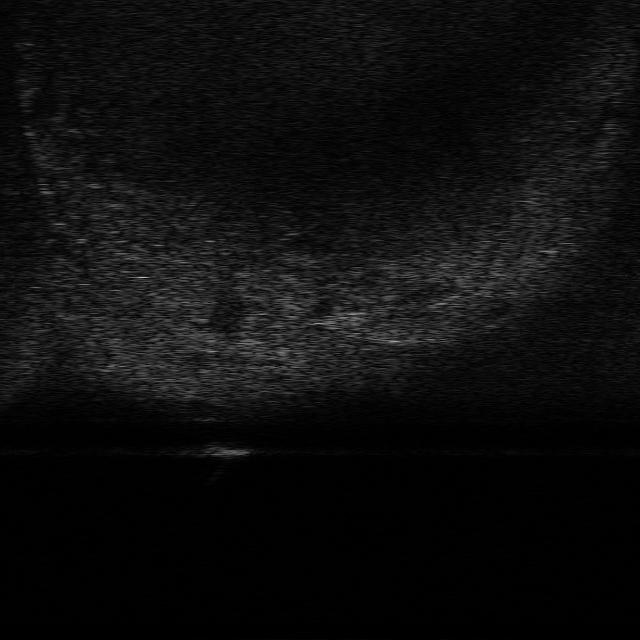cube: (198, 441, 250, 462)
